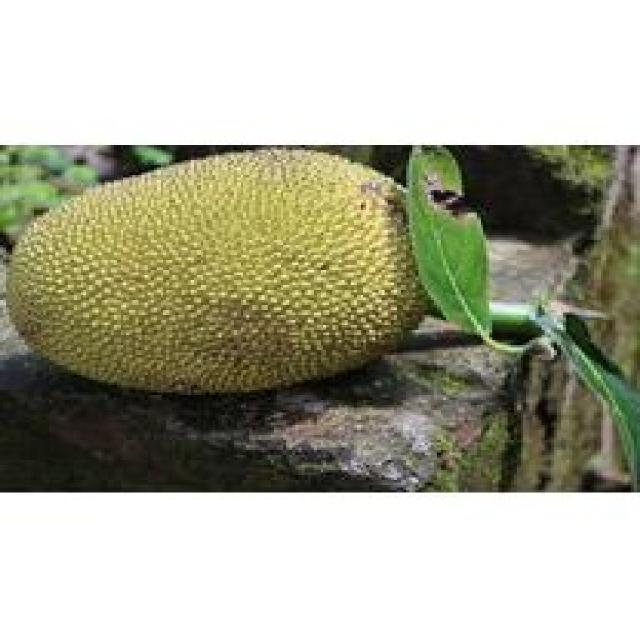Fruit: (0, 143, 440, 425)
